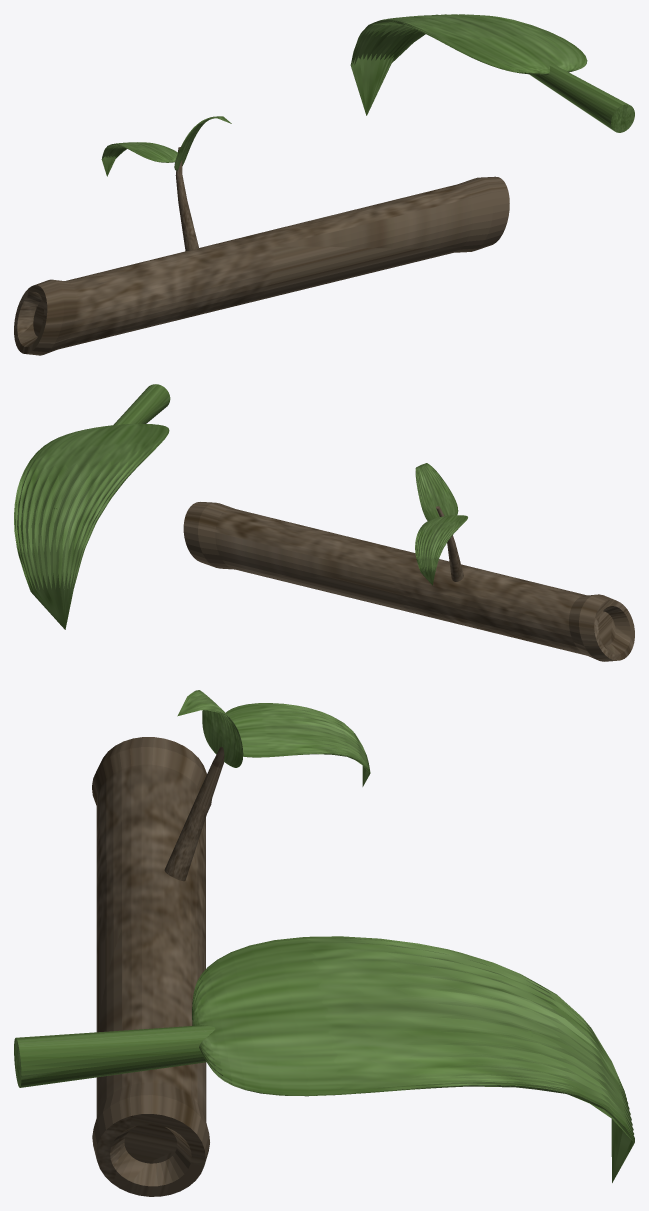
File: feuille.fbx
The picture shows the model from 3 angles, top to bottom: view 1: azimuth 30°, elevation 25°; view 2: azimuth 150°, elevation 25°; view 3: azimuth 270°, elevation 25°; orthographic projection. The views are drawn at different scales.
Parts seen in each view (by area): view 1: Cylinder.012, Cone.002, Cylinder.001, Cone, Cylinder, Cone.001; view 2: Cylinder.012, Cone.002, Cone, Cone.001, Cylinder.001, Cylinder; view 3: Cone.002, Cylinder.012, Cylinder.001, Cone, Cylinder, Cone.001.
Boxes of the visible parts, <box> form: Cylinder.012: <box>14,176,509,355</box>; Cone.002: <box>350,14,587,115</box>; Cylinder.001: <box>529,63,634,132</box>; Cone: <box>101,142,177,176</box>; Cylinder: <box>175,147,199,251</box>; Cone.001: <box>174,116,231,170</box>; Cylinder.012: <box>183,502,634,661</box>; Cone.002: <box>14,423,169,629</box>; Cone: <box>415,515,467,585</box>; Cone.001: <box>415,463,458,520</box>; Cylinder.001: <box>53,384,170,508</box>; Cylinder: <box>436,506,463,581</box>; Cone.002: <box>192,936,634,1182</box>; Cylinder.012: <box>92,737,211,1196</box>; Cylinder.001: <box>14,1025,532,1087</box>; Cone: <box>225,703,370,786</box>; Cylinder: <box>164,747,224,881</box>; Cone.001: <box>177,690,243,767</box>.
Bounding box in the file's own units: 890 × 256 × 481.
